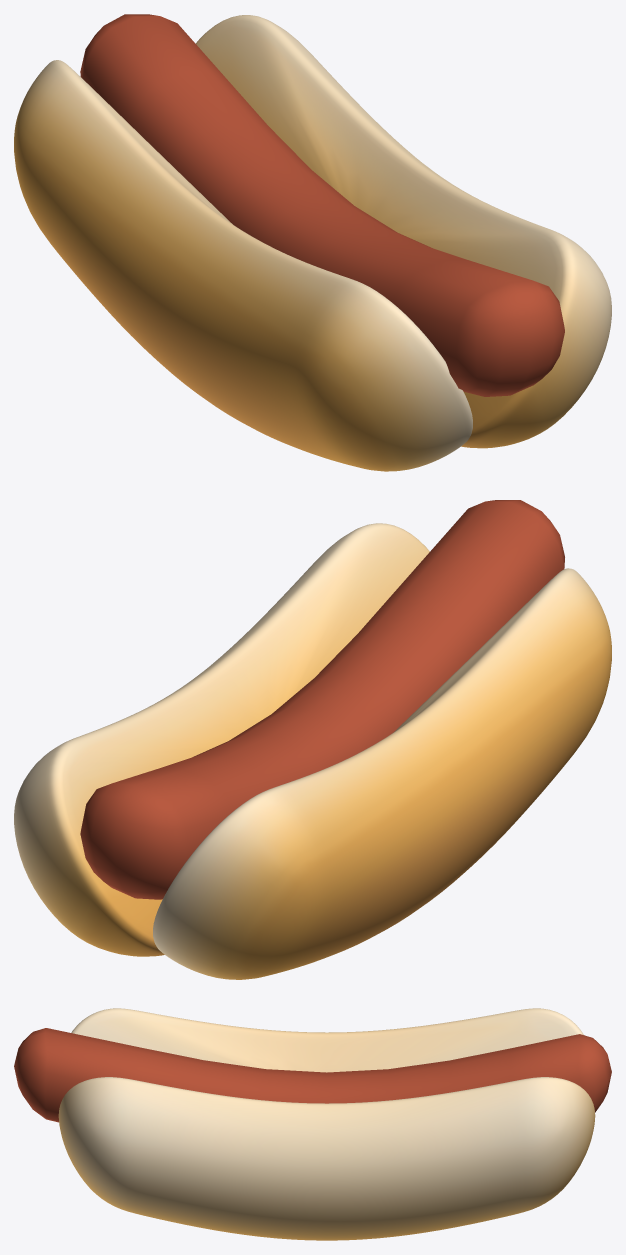
The picture shows the model from 3 angles, top to bottom: view 1: azimuth 30°, elevation 25°; view 2: azimuth 150°, elevation 25°; view 3: azimuth 270°, elevation 25°; orthographic projection. The views are drawn at different scales.
Visible parts, largest first — view 1: BunLeft, Hot Dog, BunRight; view 2: BunLeft, Hot Dog, BunRight; view 3: BunRight, Hot Dog, BunLeft.
Part boxes in pixels (x1,y1,x2,y2): BunLeft: (14, 60, 472, 471); Hot Dog: (80, 14, 564, 396); BunRight: (195, 15, 611, 448); BunLeft: (153, 568, 611, 979); Hot Dog: (80, 500, 564, 899); BunRight: (14, 523, 429, 956); BunRight: (58, 1077, 595, 1240); Hot Dog: (14, 1028, 611, 1122); BunLeft: (71, 1008, 583, 1072).
Size of the model in its own units: 2.26 by 1.81 by 5.35.
Materials: 3 (3 with a texture image).
